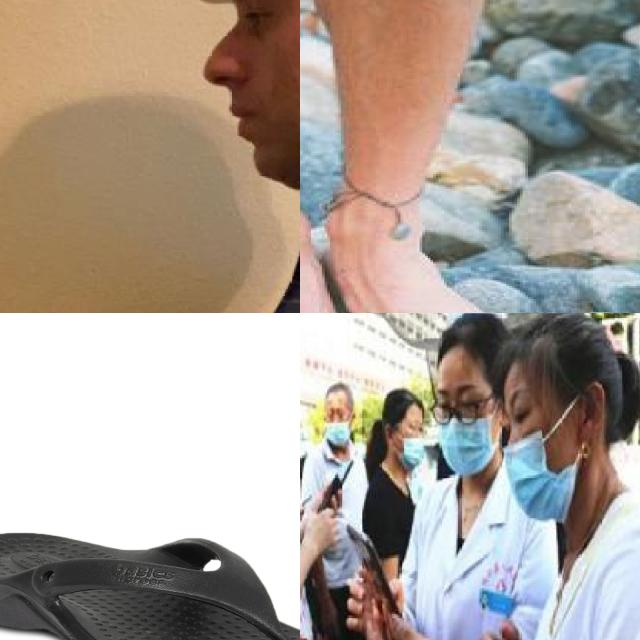Barefoots: (300, 240, 522, 313)
Sandals: (0, 531, 300, 640)
face_mask: (502, 391, 566, 517), (435, 366, 498, 486), (389, 408, 427, 471), (321, 397, 350, 448)
glasses: (427, 393, 492, 430)
hand_noglove: (342, 572, 406, 632), (362, 613, 447, 640), (302, 506, 336, 550), (467, 621, 527, 640), (314, 478, 342, 509)
head_nohelmet: (498, 322, 627, 392), (416, 313, 503, 370), (372, 388, 424, 415), (315, 376, 352, 404)
person: (485, 320, 640, 640), (407, 313, 551, 640), (359, 378, 434, 596), (306, 365, 368, 586)
